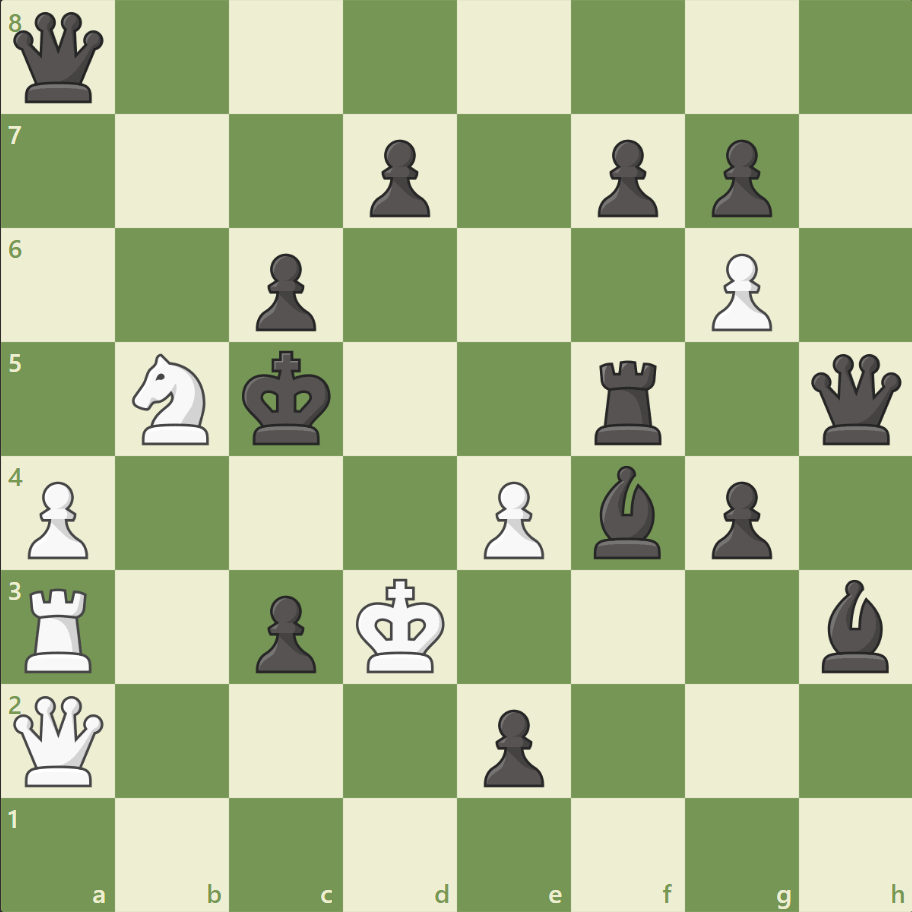K: (351, 571, 451, 679)
N: (124, 348, 222, 450)
P: (701, 246, 776, 337), (20, 473, 95, 564), (474, 473, 549, 564)
Q: (10, 690, 109, 789)
R: (19, 579, 102, 676)
b: (585, 460, 669, 563), (812, 574, 896, 676)
k: (238, 344, 338, 452)
p: (701, 132, 776, 223), (247, 246, 322, 337), (701, 473, 776, 564), (247, 586, 322, 677), (474, 700, 549, 791), (361, 132, 435, 223), (588, 132, 662, 223)
q: (805, 349, 904, 449), (10, 9, 109, 108)
r: (587, 352, 670, 449)
